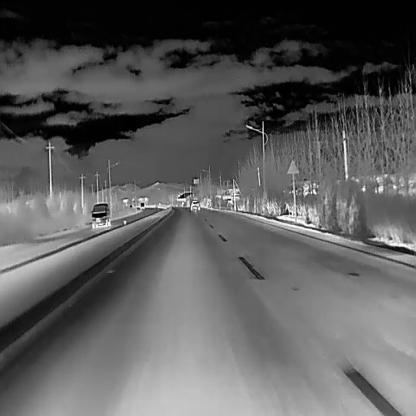car: (89, 203, 111, 229), (190, 199, 200, 213), (143, 206, 145, 210)
